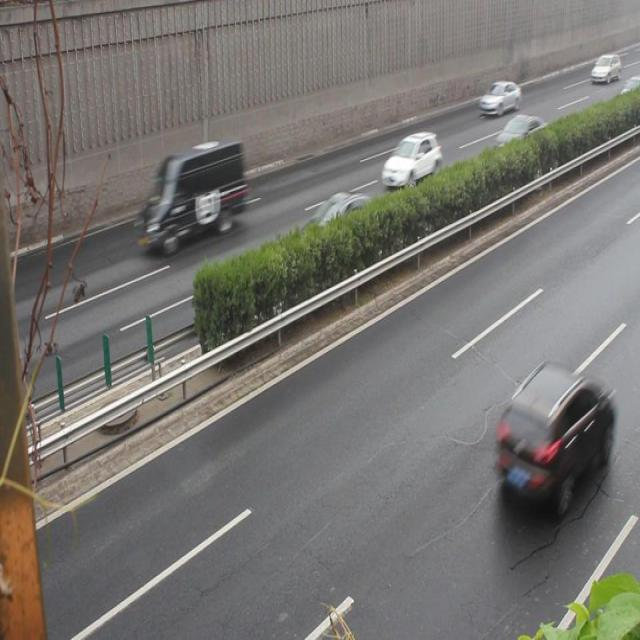car: (494, 360, 608, 510), (302, 192, 376, 258), (380, 129, 441, 189), (493, 112, 548, 158), (477, 78, 519, 118), (588, 50, 618, 77), (616, 74, 640, 106)
